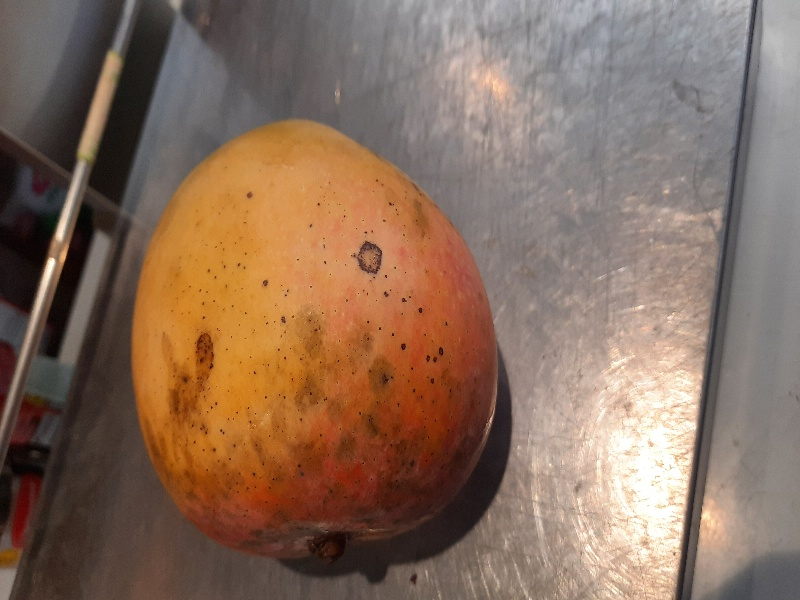fruit: (130, 120, 507, 573)
